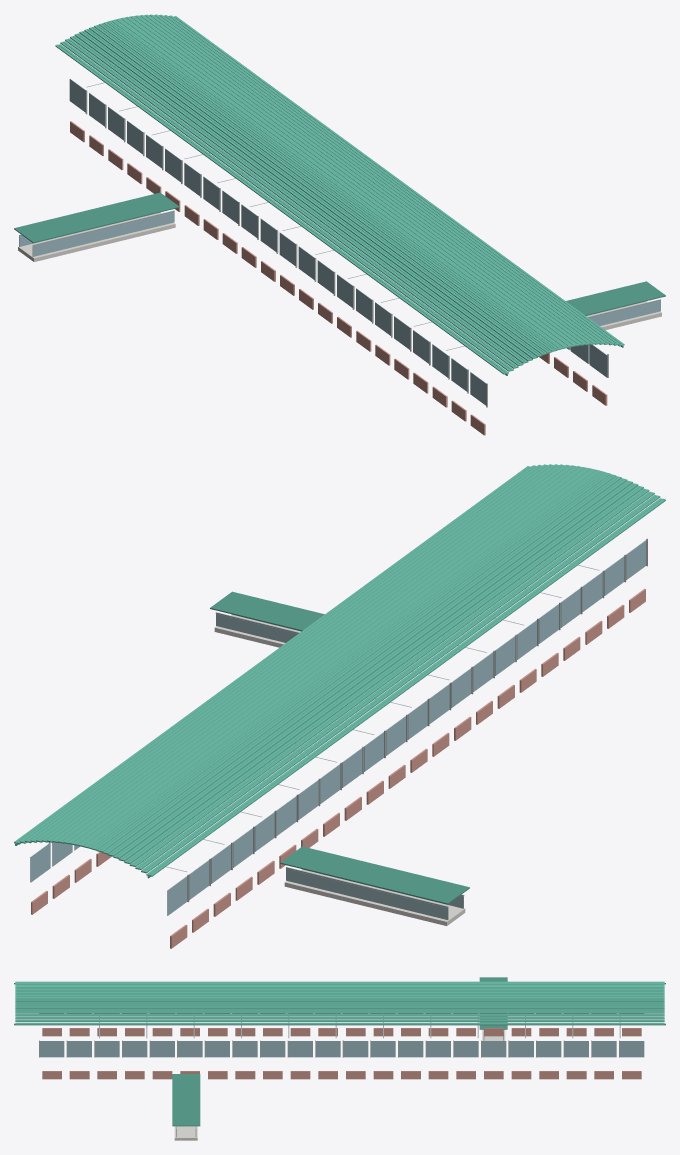
File: station-1-photo-reference.glb
3 views of the same model, one above another, from view 1: azimuth 30°, elevation 25°; view 2: azimuth 150°, elevation 25°; view 3: azimuth 270°, elevation 25° (orthographic). The views are drawn at different scales.
Parts seen in each view (by area): view 1: Station 1 photo-informed architecture and surroundings; view 2: Station 1 photo-informed architecture and surroundings; view 3: Station 1 photo-informed architecture and surroundings.
Part boxes in pixels (<box>): Station 1 photo-informed architecture and surroundings: <box>14,14,665,435</box>; Station 1 photo-informed architecture and surroundings: <box>14,464,665,948</box>; Station 1 photo-informed architecture and surroundings: <box>14,977,665,1140</box>.
Bounding box in the file's own units: 89 × 20.31 × 165.
